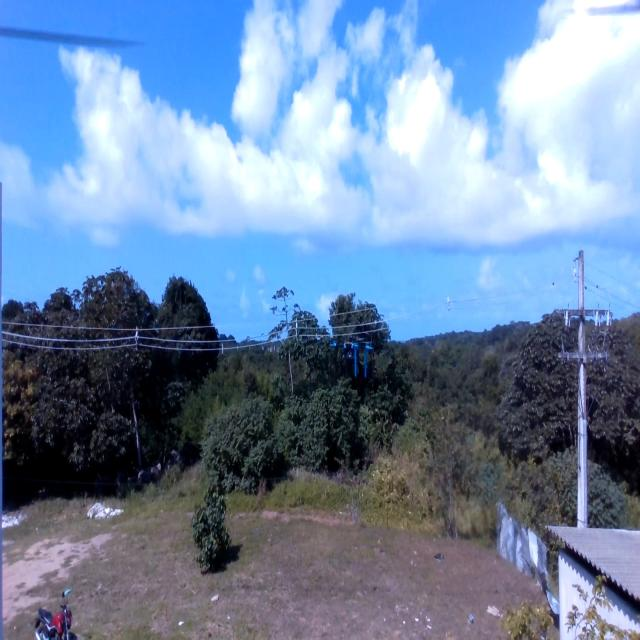-uav-: (328, 325, 387, 391)
